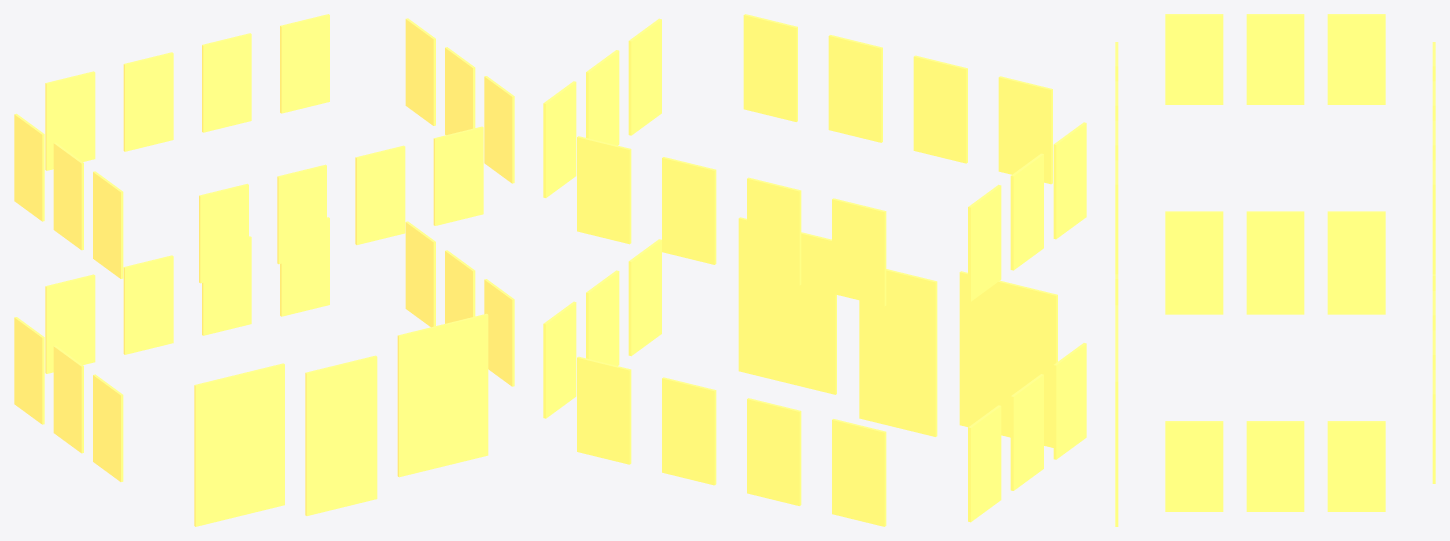
File: Shop_Bakery_Glow.glb
The picture shows the model from 3 angles, left to right: view 1: azimuth 30°, elevation 25°; view 2: azimuth 150°, elevation 25°; view 3: azimuth 270°, elevation 25°; orthographic projection. The views are drawn at different scales.
Parts seen in each view (by area): view 1: Shop_Bakery_Glow; view 2: Shop_Bakery_Glow; view 3: Shop_Bakery_Glow.
Boxes of the visible parts, bbox=[...] form: Shop_Bakery_Glow: bbox=[14, 14, 514, 526]; Shop_Bakery_Glow: bbox=[543, 14, 1086, 526]; Shop_Bakery_Glow: bbox=[1115, 14, 1435, 526].
Size of the model in its own units: 25.16 by 21.1 by 17.16.
